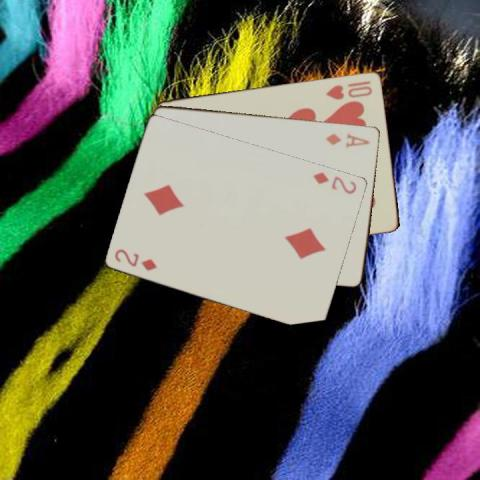10h: (323, 77, 374, 101)
2d: (310, 169, 359, 195), (112, 246, 159, 272)
Ad: (323, 130, 371, 149)
